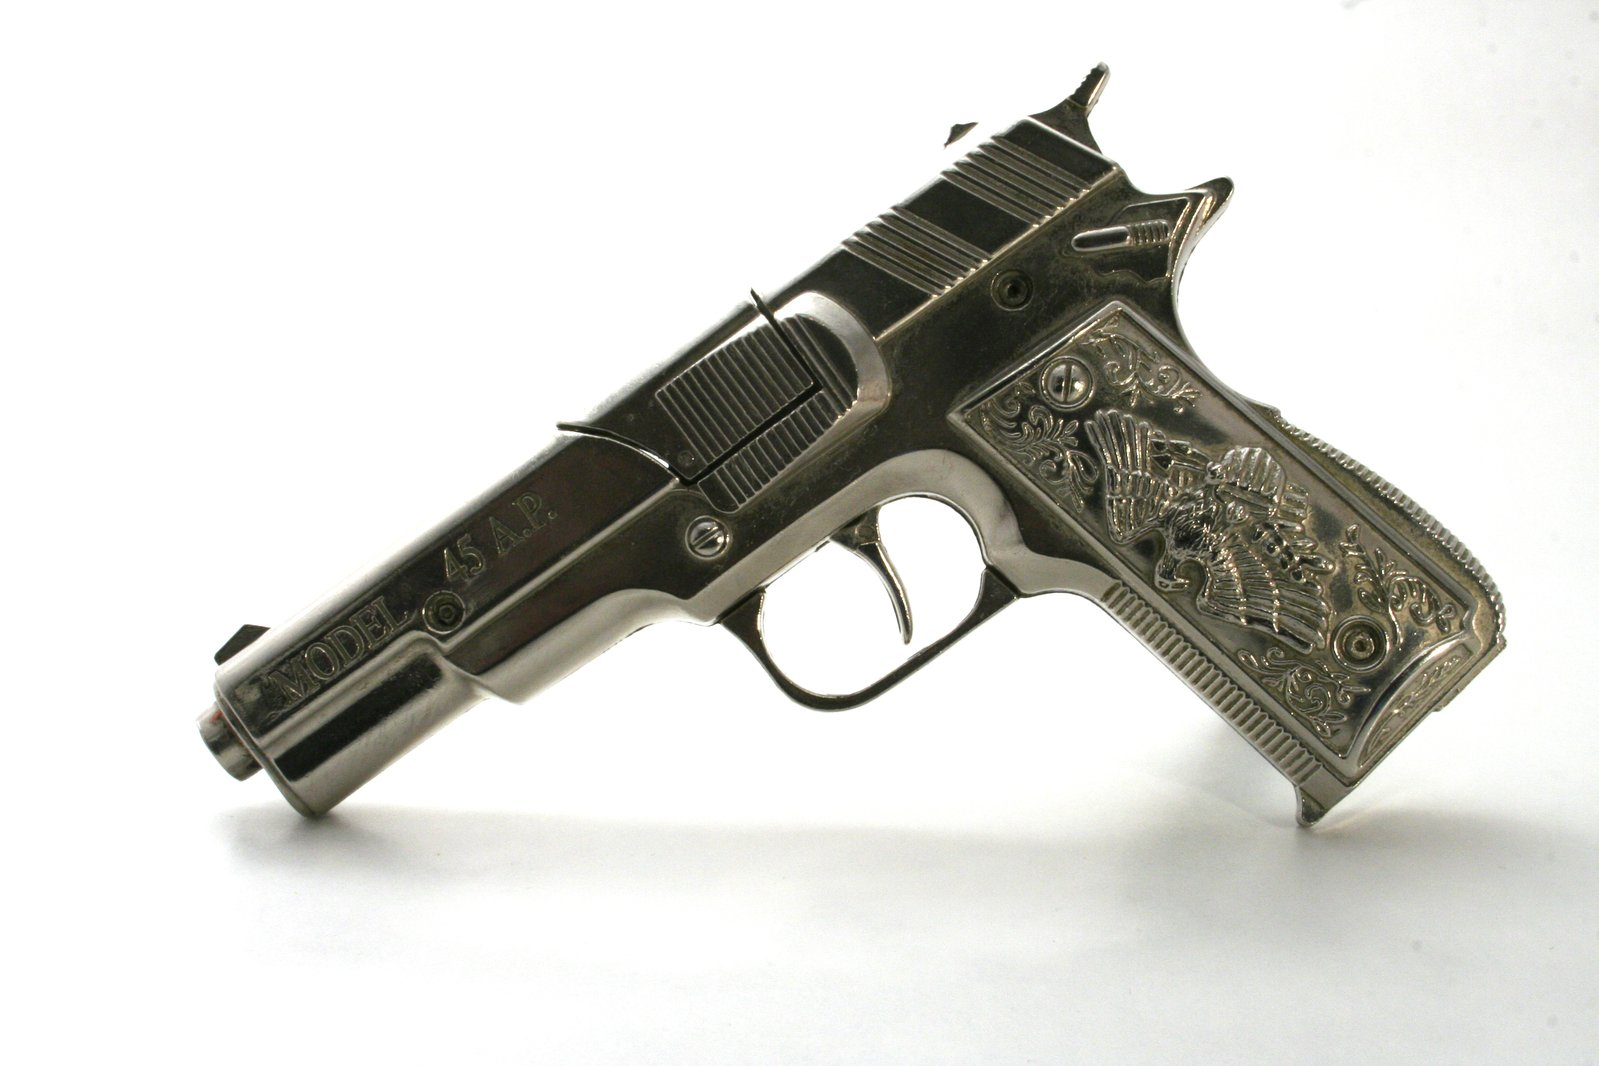gun: (192, 63, 1506, 824)
